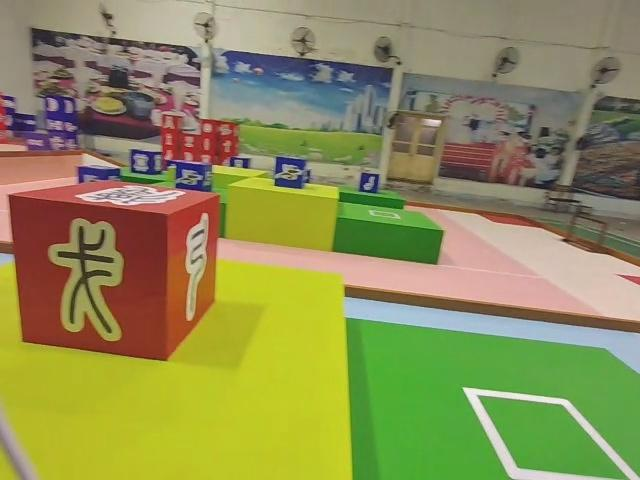R2 Fake: (8, 181, 224, 365)
